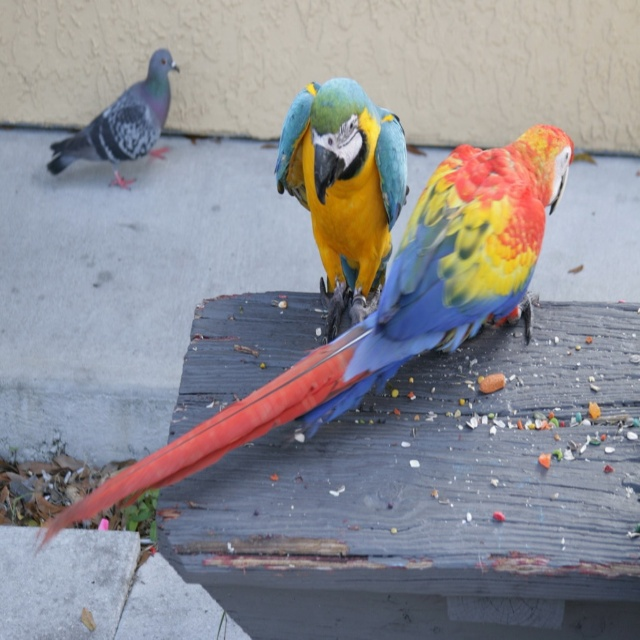Parrot: (32, 119, 602, 555), (276, 71, 411, 338), (44, 39, 182, 197)
